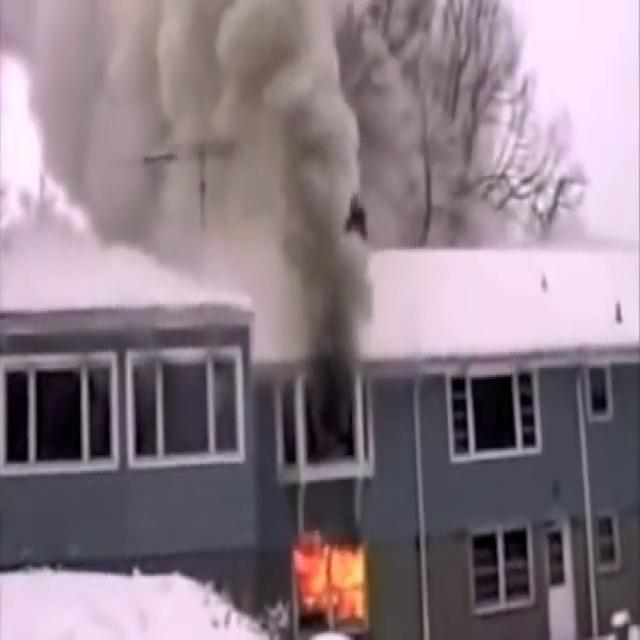Fire: (291, 514, 378, 632)
Smoke: (0, 0, 385, 308)
